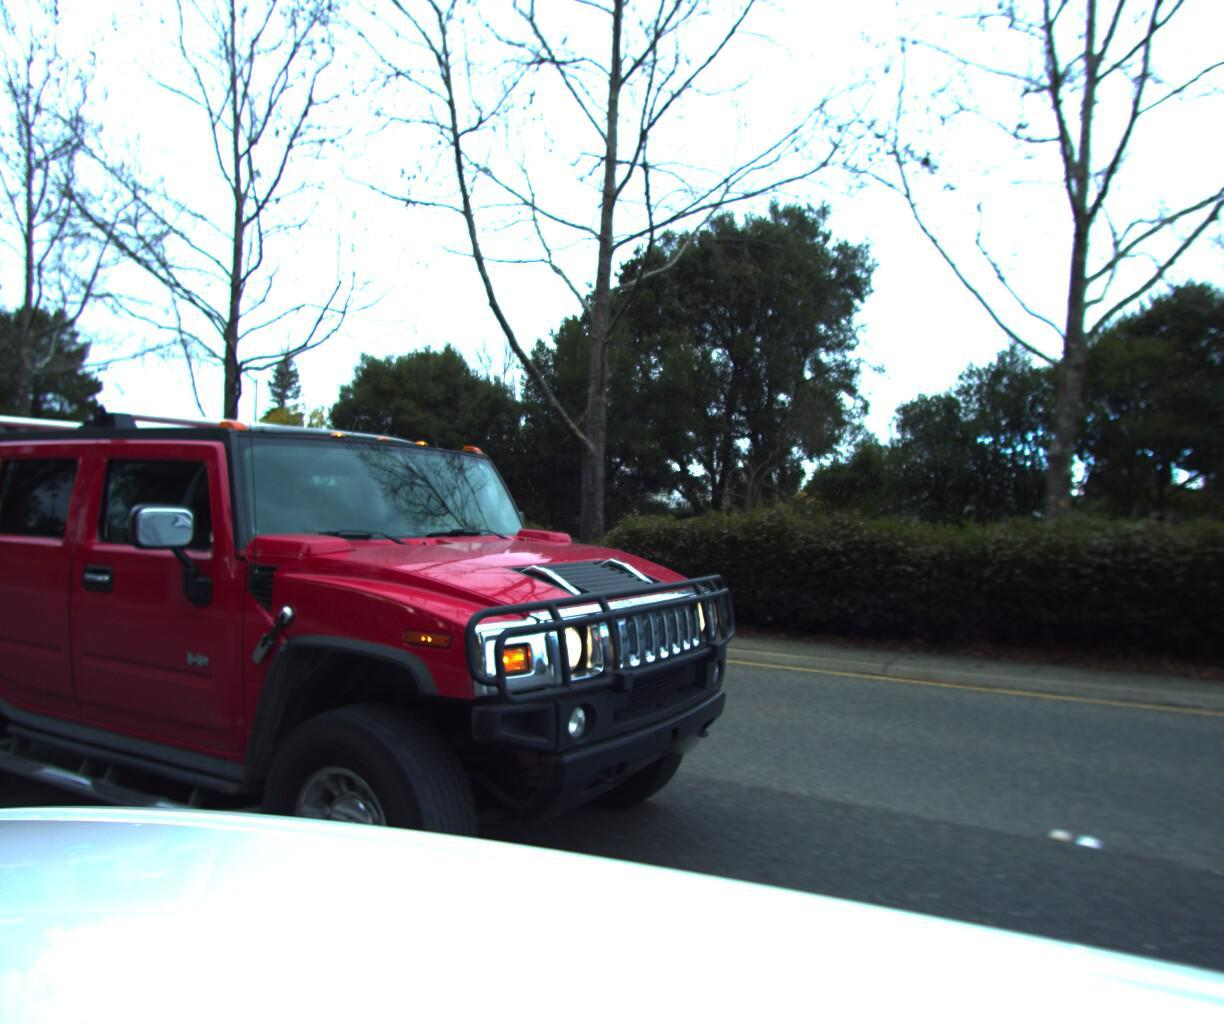car: (0, 372, 775, 1024)
